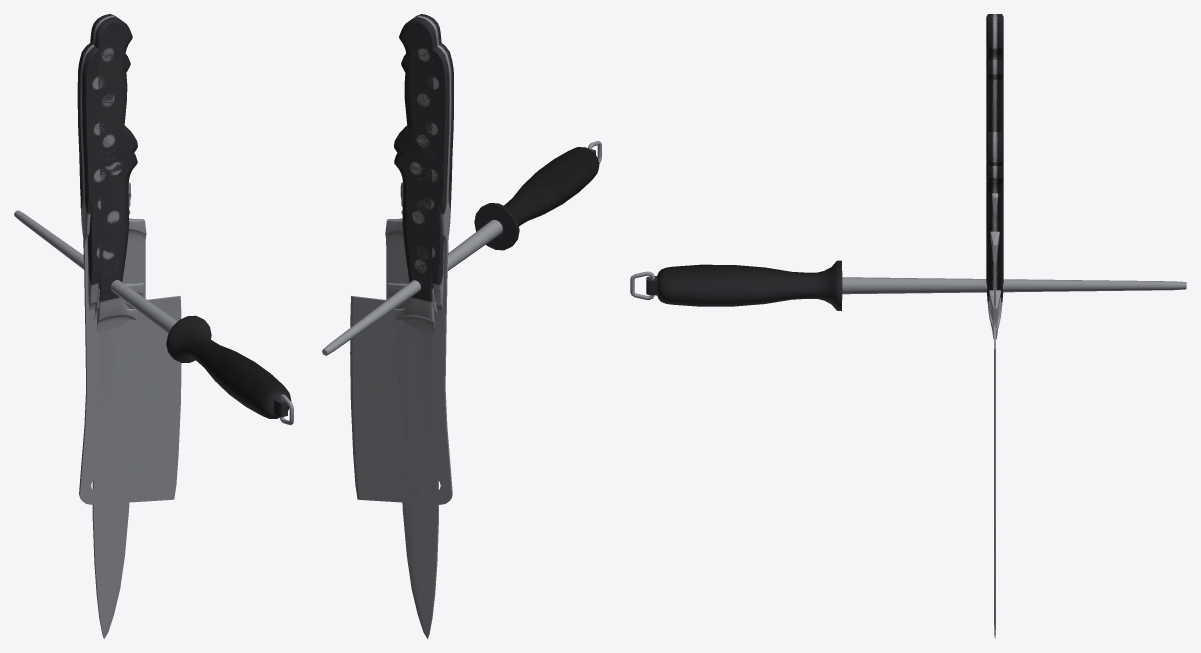
File: kitchen-knife-set---asset-pack-c55d34.glb
3 renders of one model, left to right at view 1: azimuth 30°, elevation 25°; view 2: azimuth 150°, elevation 25°; view 3: azimuth 270°, elevation 25°, orthographic.
Parts seen in each view (by area): view 1: PropMesh; view 2: PropMesh; view 3: PropMesh.
Part boxes in pixels (x1,y1,x2,y2): PropMesh: (14,14,293,638); PropMesh: (322,14,601,638); PropMesh: (630,14,1186,638).
Bounding box in the file's own units: 0.3786 × 2.2 × 1.77.
1 material, 1 textured.
